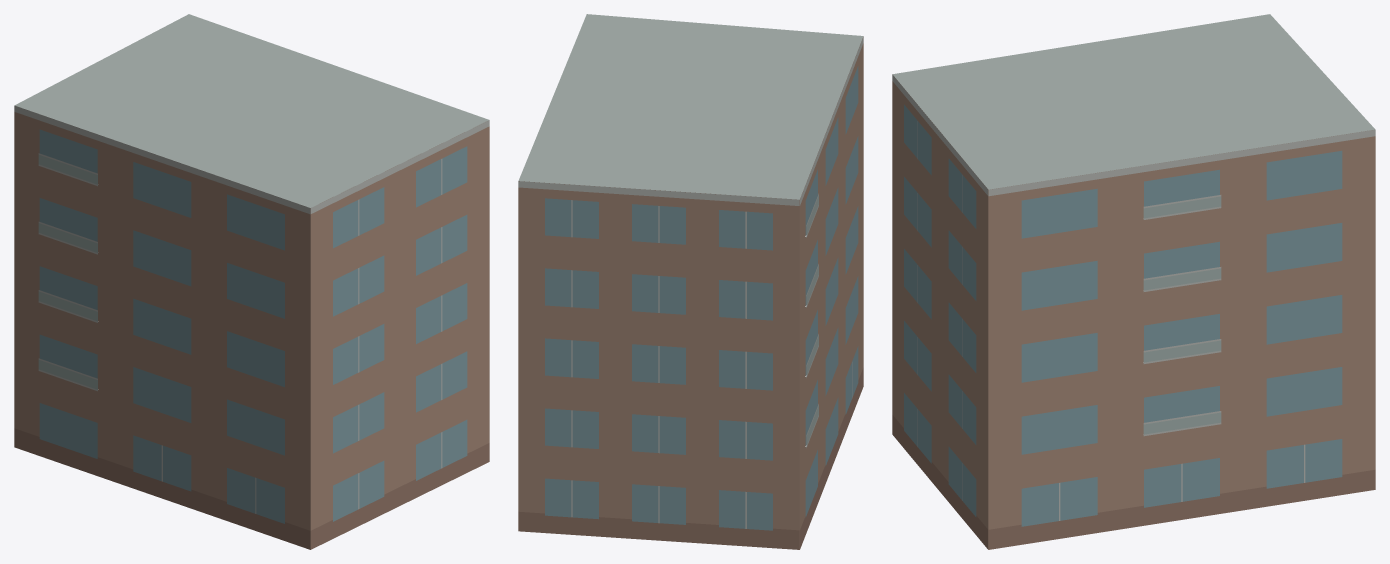
The model's file is survey-upis-32854428.glb.
3 views of the same model, side by side, from view 1: azimuth 30°, elevation 25°; view 2: azimuth 150°, elevation 25°; view 3: azimuth 270°, elevation 25° (orthographic). The views are drawn at different scales.
Visible parts, largest first — view 1: survey-upis-32854428.tmp; view 2: survey-upis-32854428.tmp; view 3: survey-upis-32854428.tmp.
Part boxes in pixels (bbox=[...]): survey-upis-32854428.tmp: bbox=[14, 14, 489, 549]; survey-upis-32854428.tmp: bbox=[518, 14, 863, 549]; survey-upis-32854428.tmp: bbox=[892, 14, 1375, 549].
Size of the model in its own units: 13.82 by 13.2 by 16.06.
